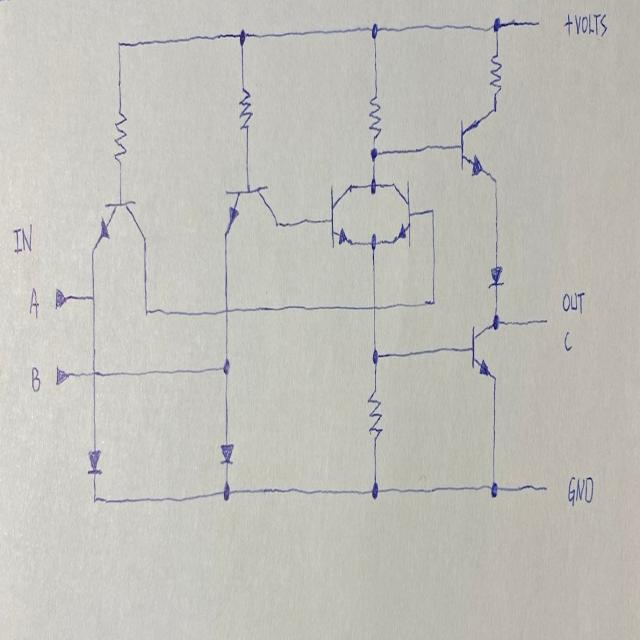diode: (83, 442, 108, 479), (486, 257, 507, 294), (217, 436, 236, 469)
junction: (368, 336, 389, 376), (366, 472, 383, 510), (220, 476, 238, 510), (233, 23, 253, 52), (364, 226, 382, 257), (486, 472, 502, 505), (86, 359, 105, 386), (366, 17, 384, 44), (488, 309, 504, 339), (138, 298, 156, 324), (218, 352, 235, 379), (366, 290, 381, 319), (424, 285, 439, 313), (217, 298, 233, 323), (86, 486, 102, 510), (489, 11, 503, 37), (115, 31, 128, 58), (367, 174, 381, 198), (426, 200, 439, 225), (367, 142, 380, 163), (86, 286, 97, 307)
resistor: (362, 384, 384, 447), (112, 103, 131, 169), (236, 80, 254, 144), (366, 88, 384, 140), (486, 47, 504, 97)
terminal: (52, 282, 76, 314), (534, 474, 559, 502), (52, 360, 76, 389), (533, 307, 557, 333), (526, 9, 546, 32)
text: (564, 470, 597, 510), (574, 5, 610, 39), (10, 215, 34, 261), (561, 286, 587, 317), (27, 360, 42, 398), (27, 284, 40, 324), (561, 327, 574, 354), (562, 9, 572, 38)
transistor: (88, 193, 149, 256), (219, 180, 280, 239), (457, 106, 492, 185), (326, 178, 360, 250), (388, 172, 416, 253), (463, 318, 491, 383)
